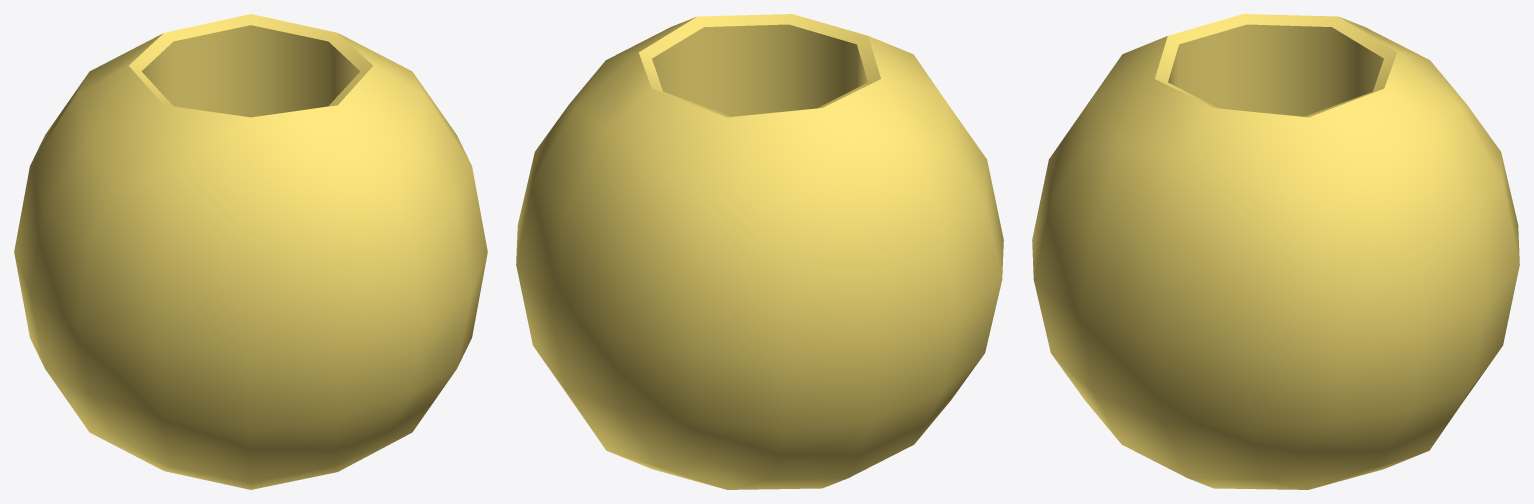
Rendered from Toy_Ball_7.glb.
3 renders of one model, left to right at view 1: azimuth 30°, elevation 25°; view 2: azimuth 150°, elevation 25°; view 3: azimuth 270°, elevation 25°, orthographic. The views are drawn at different scales.
Visible parts, largest first — view 1: Toy_Ball_7; view 2: Toy_Ball_7; view 3: Toy_Ball_7.
Part boxes in pixels (left/top/right/bottom): Toy_Ball_7: left=14, top=14, right=487, bottom=489; Toy_Ball_7: left=516, top=14, right=1003, bottom=489; Toy_Ball_7: left=1032, top=14, right=1519, bottom=489.
Bounding box in the file's own units: 0.0595 × 0.0512 × 0.0595.
Materials: 1 (1 with a texture image).
